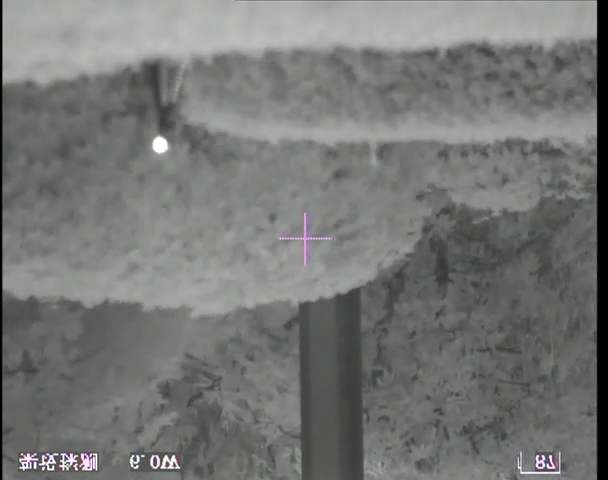my: (151, 135, 168, 155)
